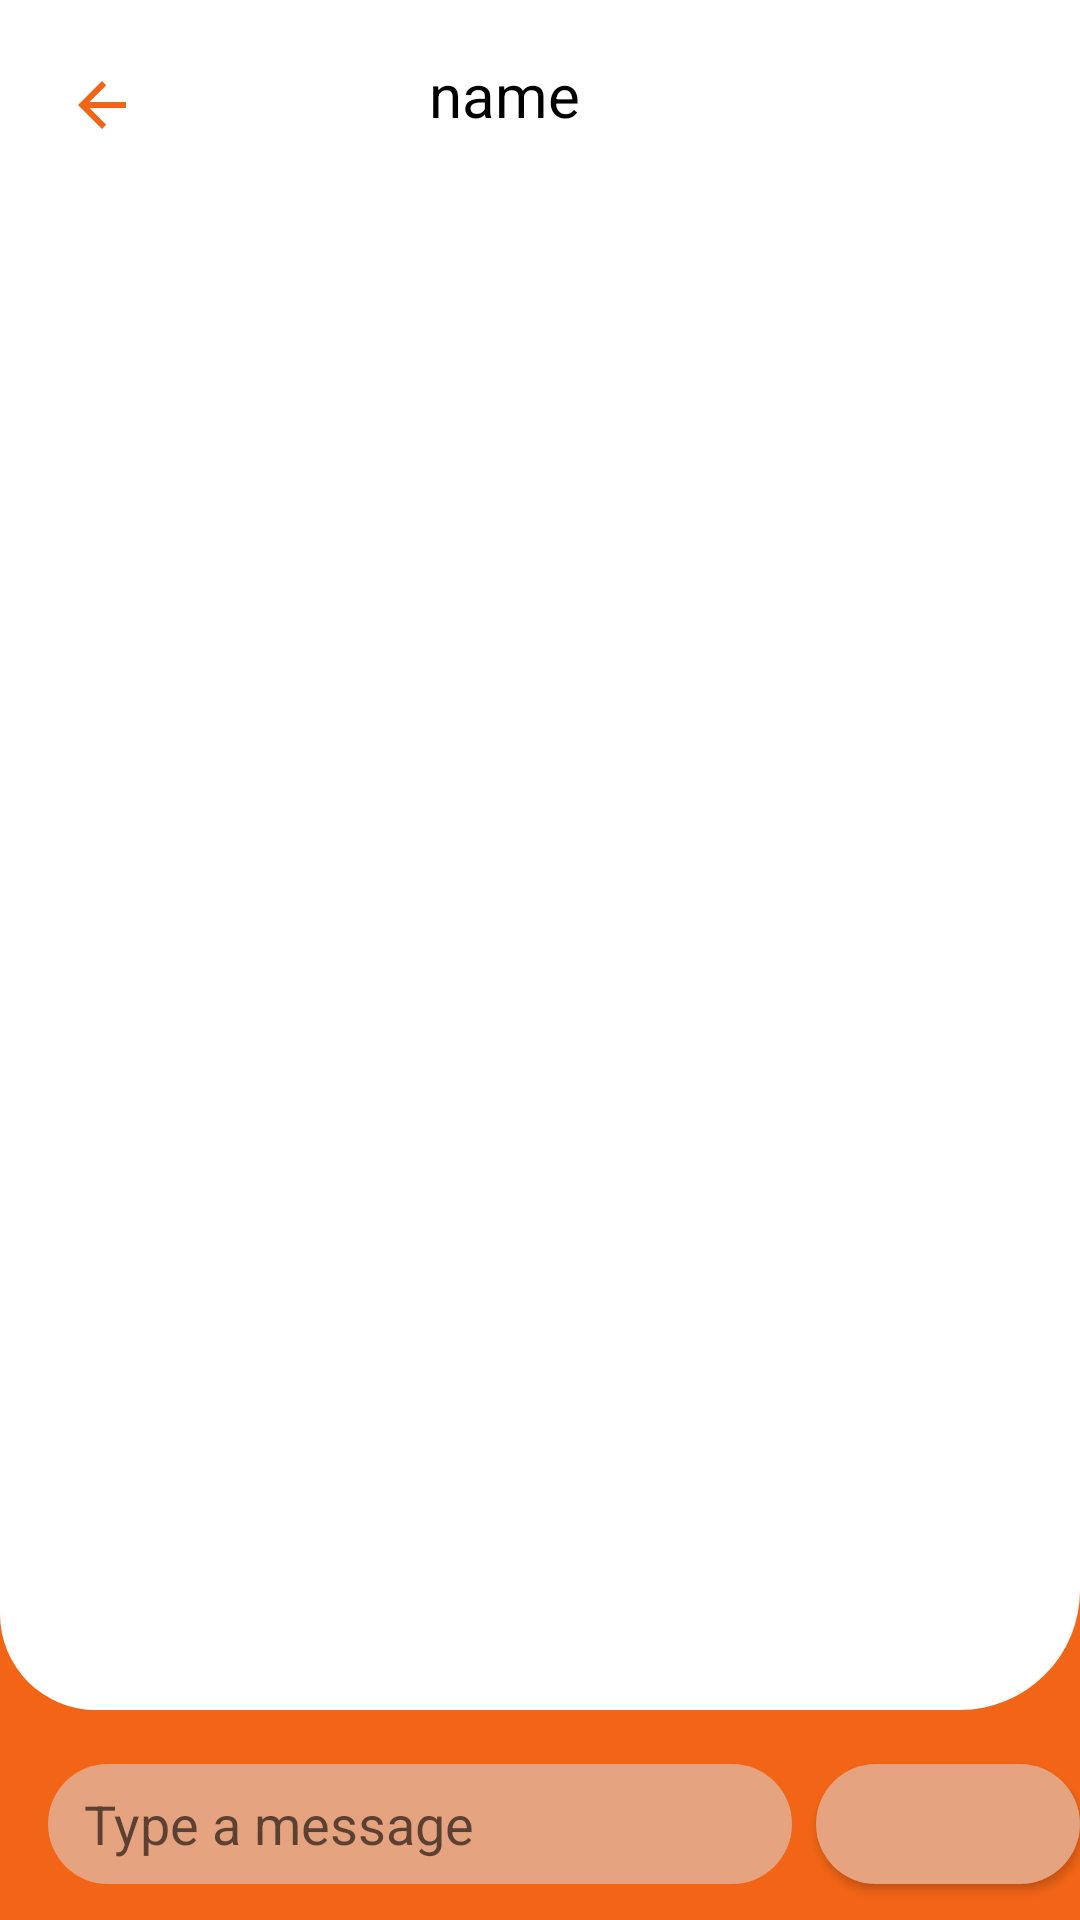

Locate icon controls on the screen. Image size 1080*1920, boxes as {"left": x1, "top": y1, "right": x2, "bottom": y2}.
arrow back: {"left": 78, "top": 81, "right": 126, "bottom": 129}
